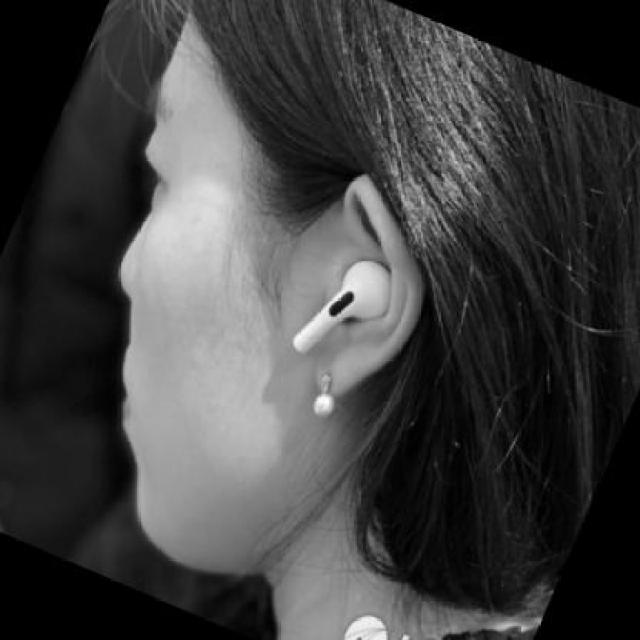earphone: (287, 246, 412, 360)
